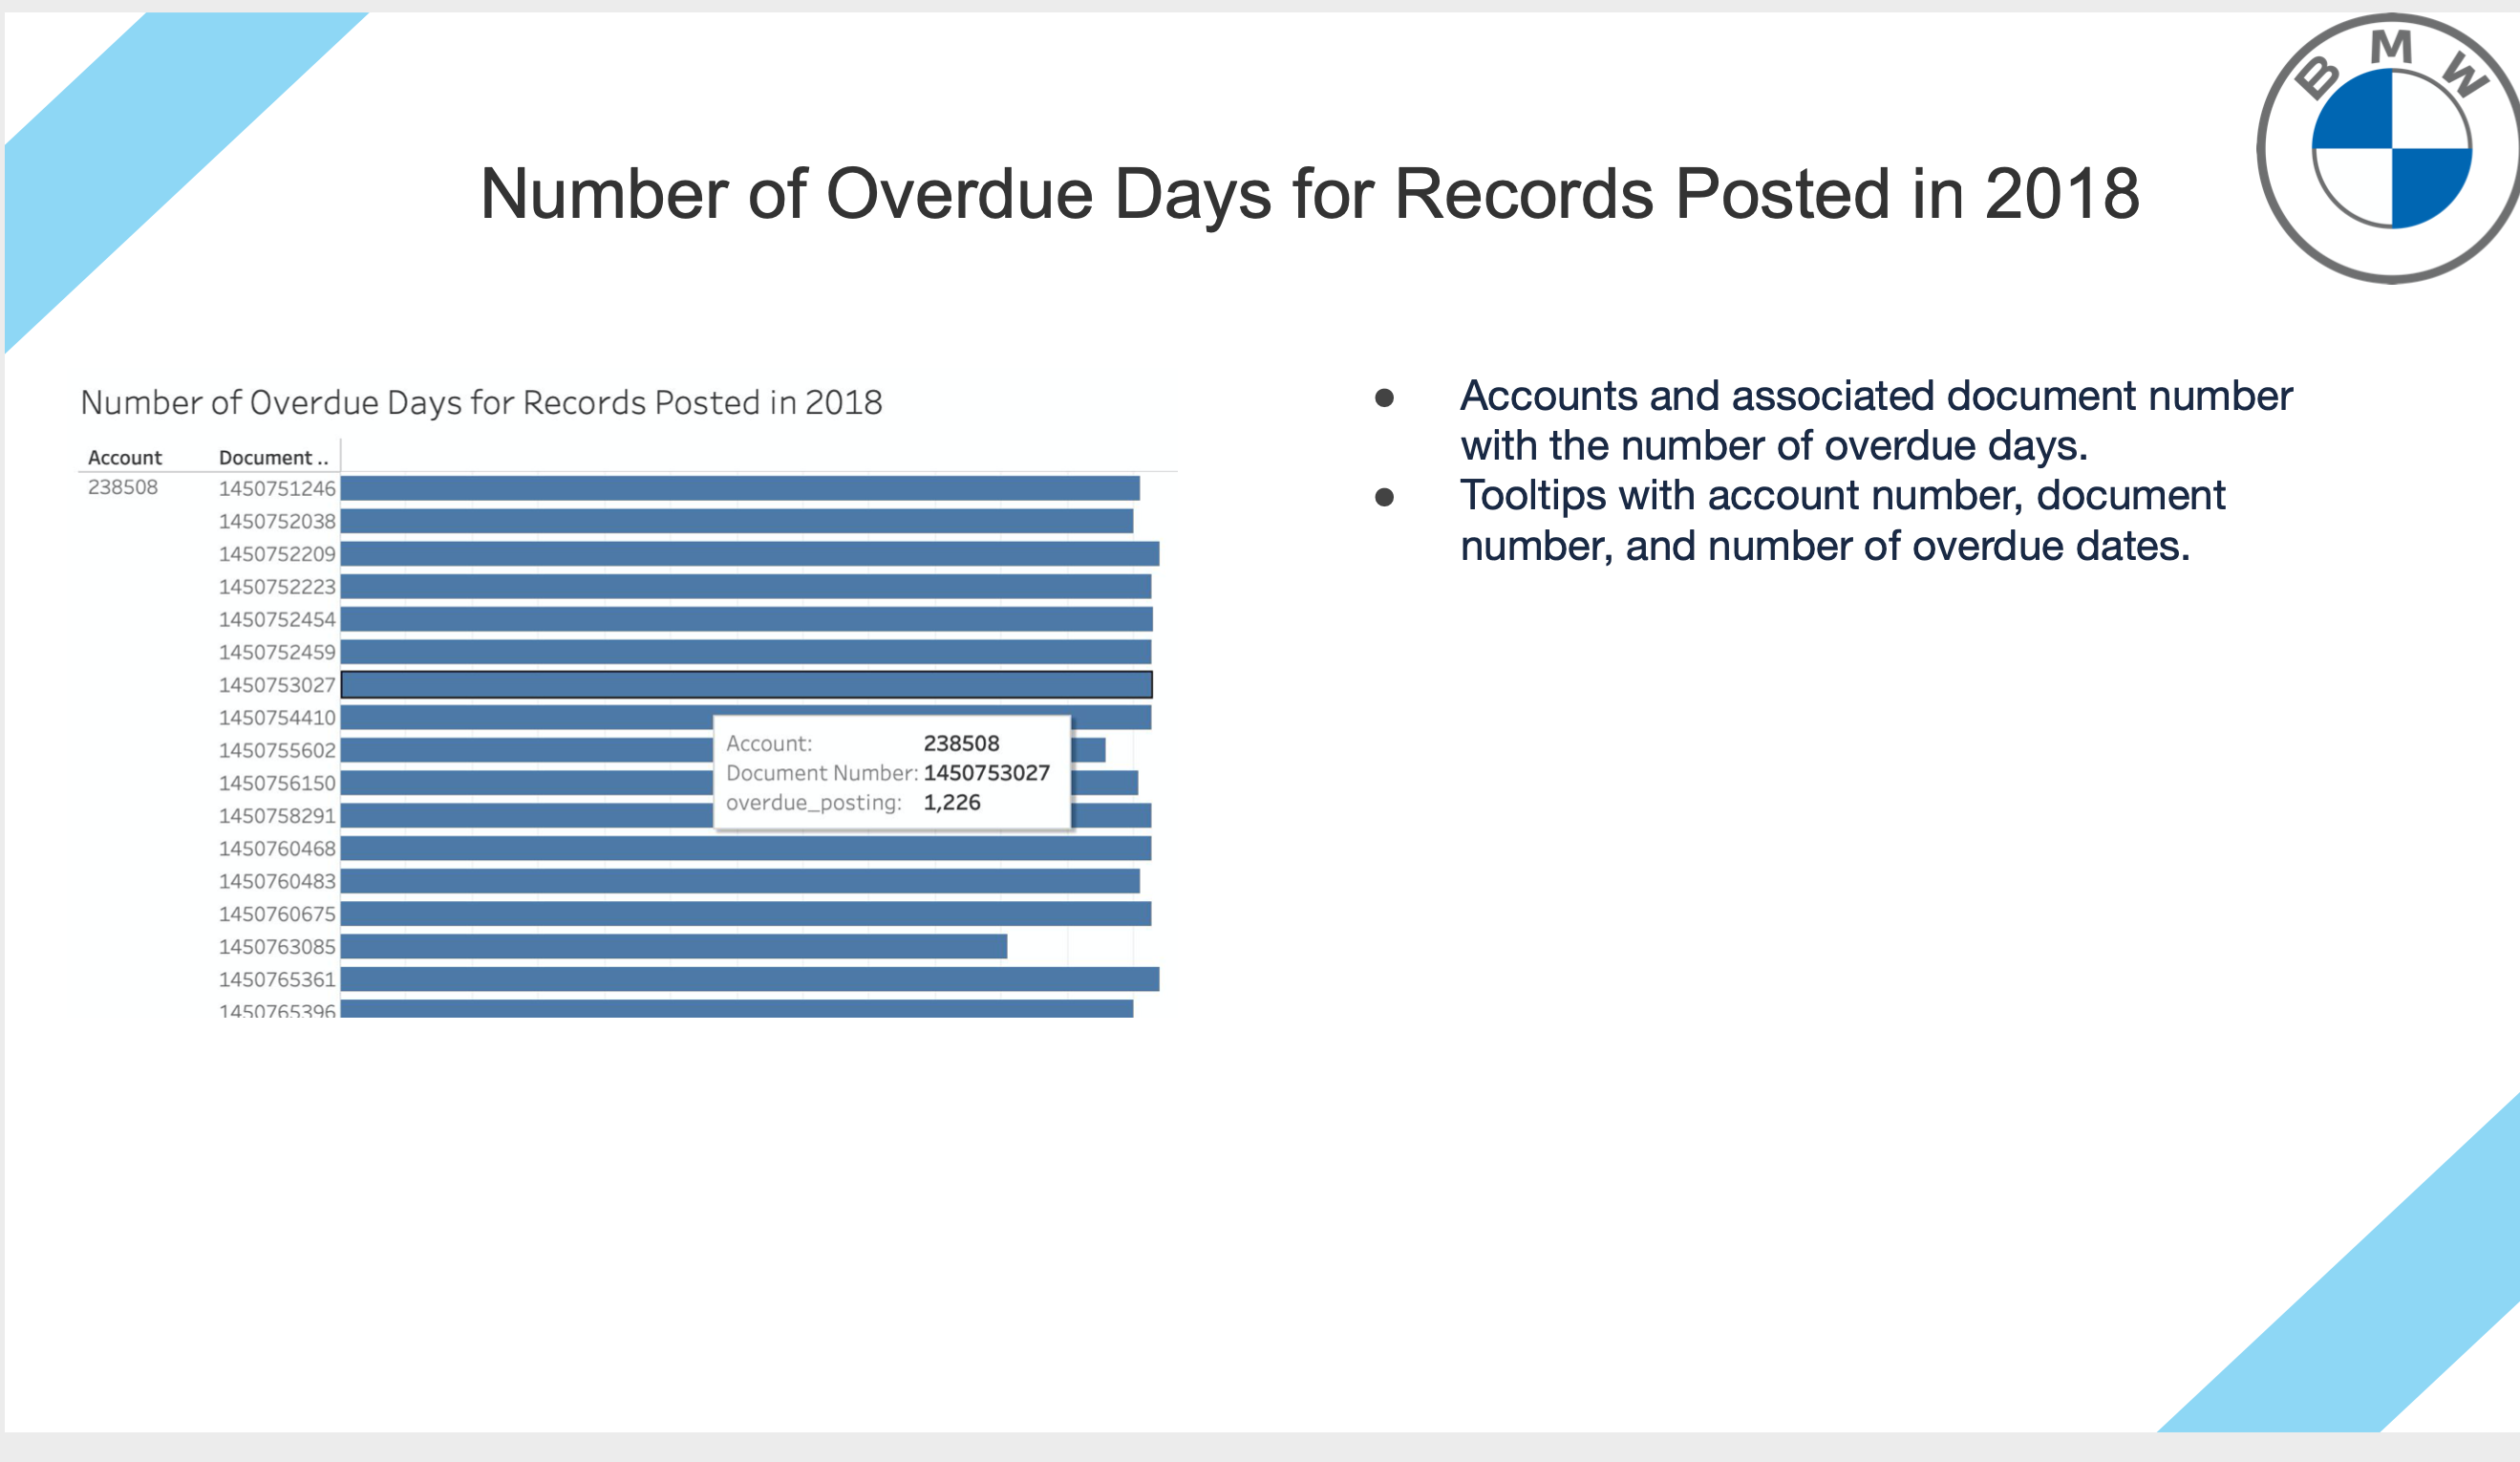

The page's visual inventory and layout, read from the dashboard file:
{"tool":"tableau","page":{"name":"Q7","canvas":[1000,800],"ordinal":0},"visuals":[{"type":"worksheet","box":[0,0,1000,800]},{"type":"worksheet","param":"horz","box":[8,8,984,784]},{"type":"worksheet","box":[8,8,824,784]},{"type":"worksheet","title":"q7_1","mark":"Area","rows":["Calculation_1919096447255023623"],"cols":["Posting Date"],"box":[8,8,355,784]},{"type":"worksheet","title":"q7_2","mark":"Automatic","rows":["Amount in local currency"],"cols":["Posting Date"],"box":[363,8,263,784]},{"type":"worksheet","title":"q7_3","mark":"Bar","rows":["Reference key 3"],"cols":["Posting Date"],"box":[626,8,206,784]},{"type":"worksheet","param":"vert","box":[832,8,160,784]},{"type":"worksheet","title":"q7_3","mark":"Bar","rows":["Reference key 3"],"cols":["Posting Date"],"param":"[federated.0t0626c1oxo1f213s7fzw058y9gb].[none:Calculation_1919096447259975689:n","box":[832,8,160,206]}]}

Visuals, with their boxes on the page's 1000x800 design canvas (x1, y1, x2, y2). These are canvas units, not pixel positions in the 2520x1462 screenshot, which may show the page scaled, cropped or inside an application window:
worksheet: (left=0, top=0, right=1000, bottom=800)
worksheet: (left=8, top=8, right=992, bottom=792)
worksheet: (left=8, top=8, right=832, bottom=792)
"q7_1" worksheet (Area marks): (left=8, top=8, right=363, bottom=792)
"q7_2" worksheet: (left=363, top=8, right=626, bottom=792)
"q7_3" worksheet (Bar marks): (left=626, top=8, right=832, bottom=792)
worksheet: (left=832, top=8, right=992, bottom=792)
"q7_3" worksheet (Bar marks): (left=832, top=8, right=992, bottom=214)
